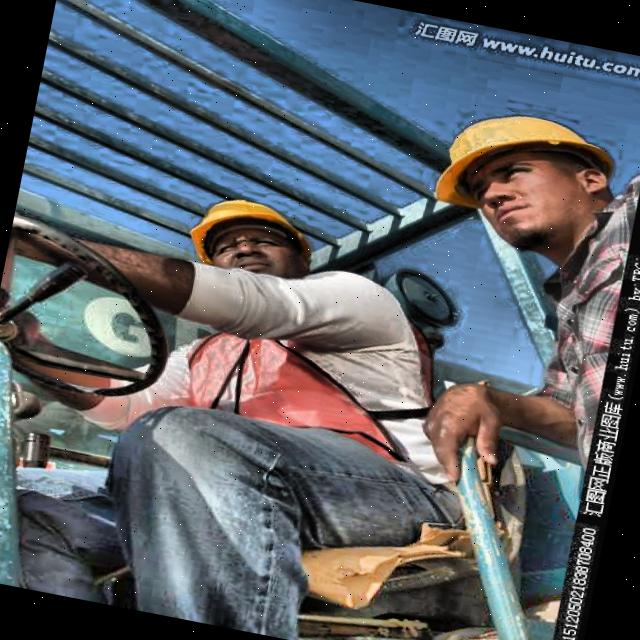helmet: (404, 73, 640, 278), (162, 172, 342, 310)
